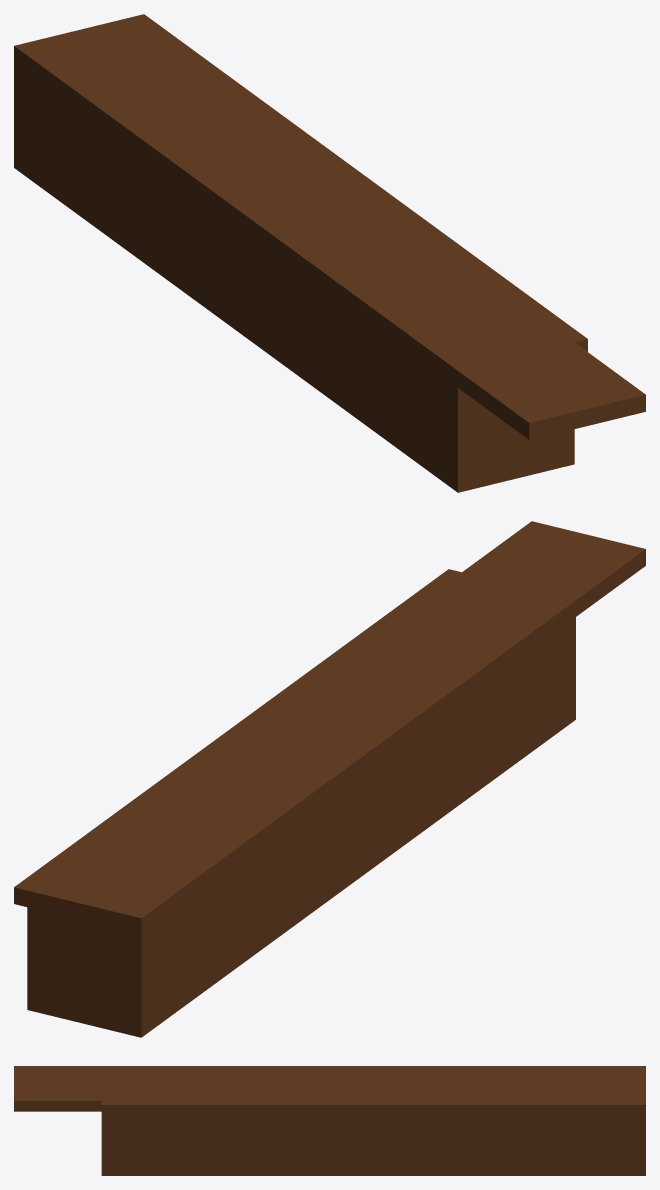
The model's file is Balcon.fbx.
3 views of the same model, one above another, from view 1: azimuth 30°, elevation 25°; view 2: azimuth 150°, elevation 25°; view 3: azimuth 270°, elevation 25° (orthographic). The views are drawn at different scales.
Visible parts, largest first — view 1: Cube; view 2: Cube; view 3: Cube.
Part boxes in pixels (<box>): Cube: <box>14,14,645,492</box>; Cube: <box>14,521,645,1037</box>; Cube: <box>14,1066,645,1175</box>.
Size of the model in its own units: 145 by 130 by 996.
